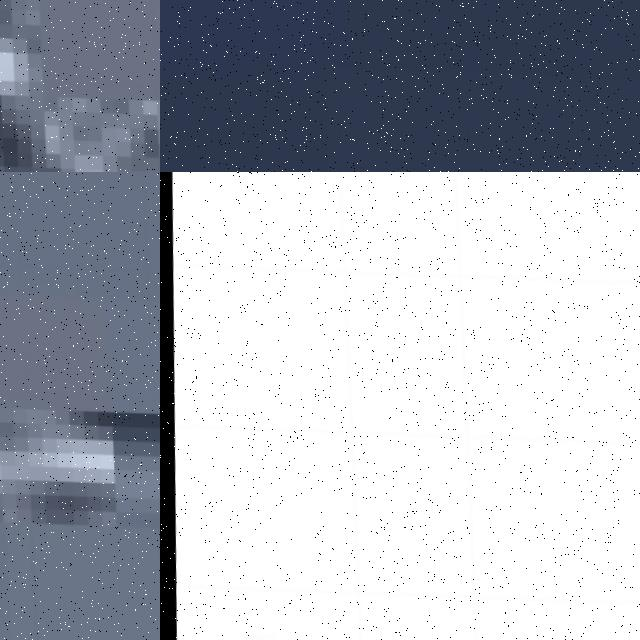drone: (160, 172, 640, 640), (0, 172, 160, 640), (0, 0, 160, 172)
